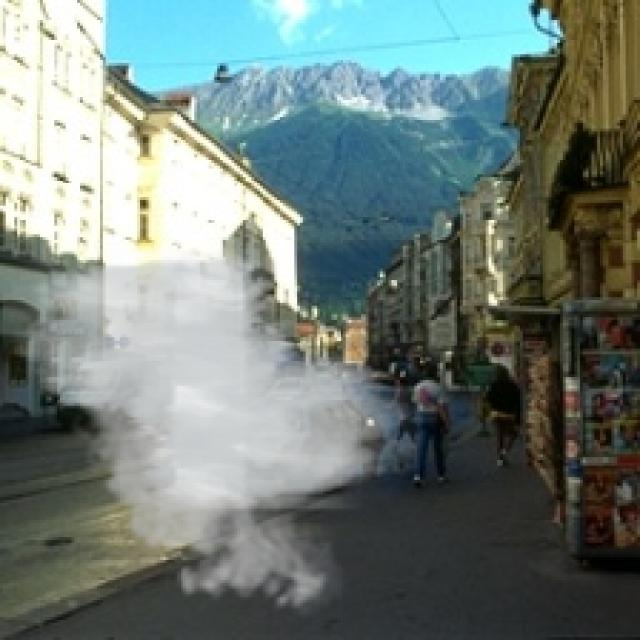smoke: (3, 249, 417, 620)
